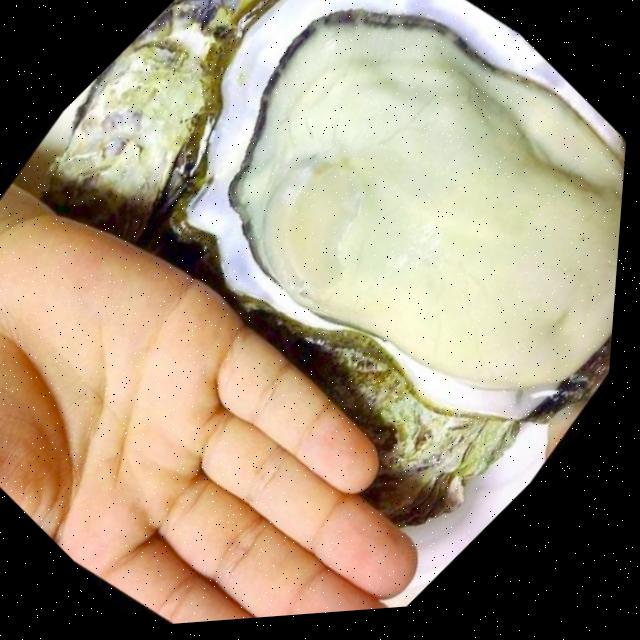Oyster-Indeterminate: (18, 0, 257, 255)
Oyster-Open: (157, 0, 626, 445)
